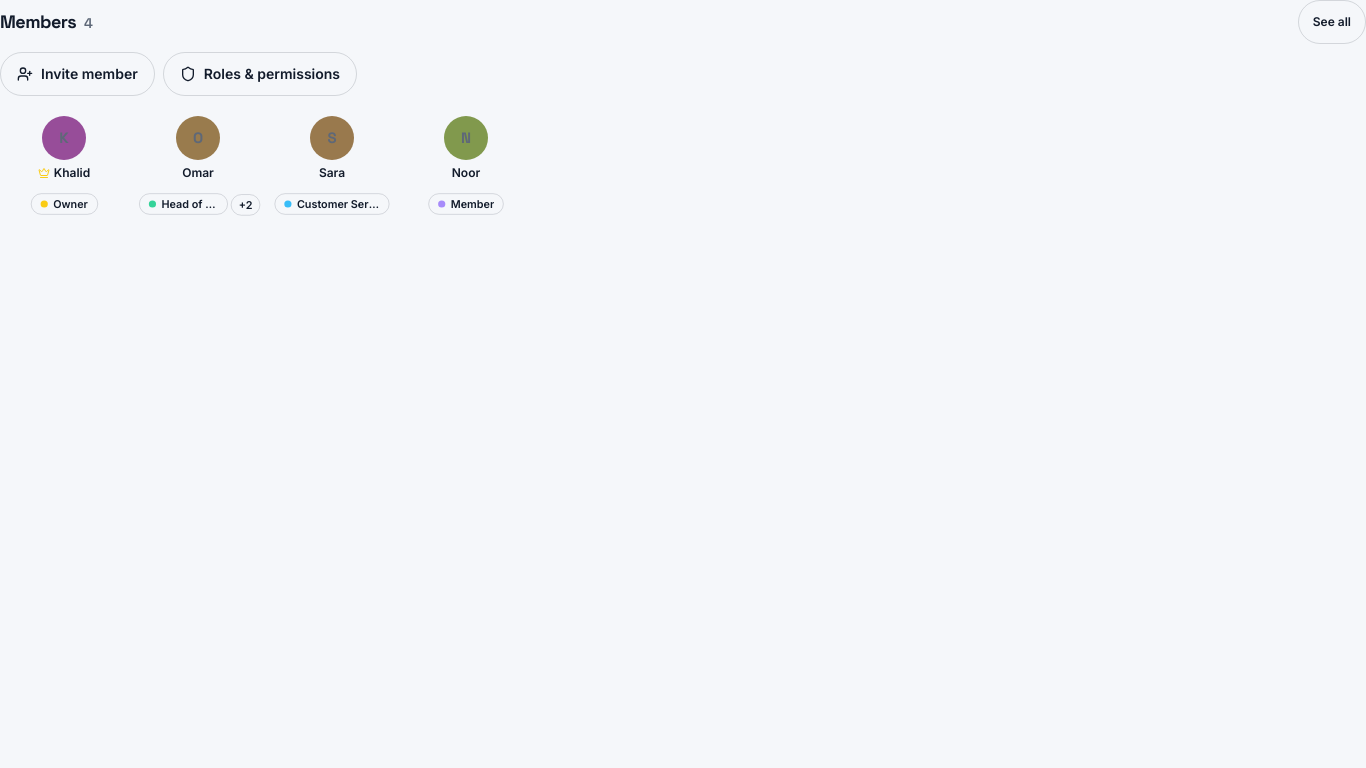
Test: Members row › gives no Member row to an owner who never joined
Click the button with aria-label "Khalid’s roles": (64, 204) [27,182,101,226]
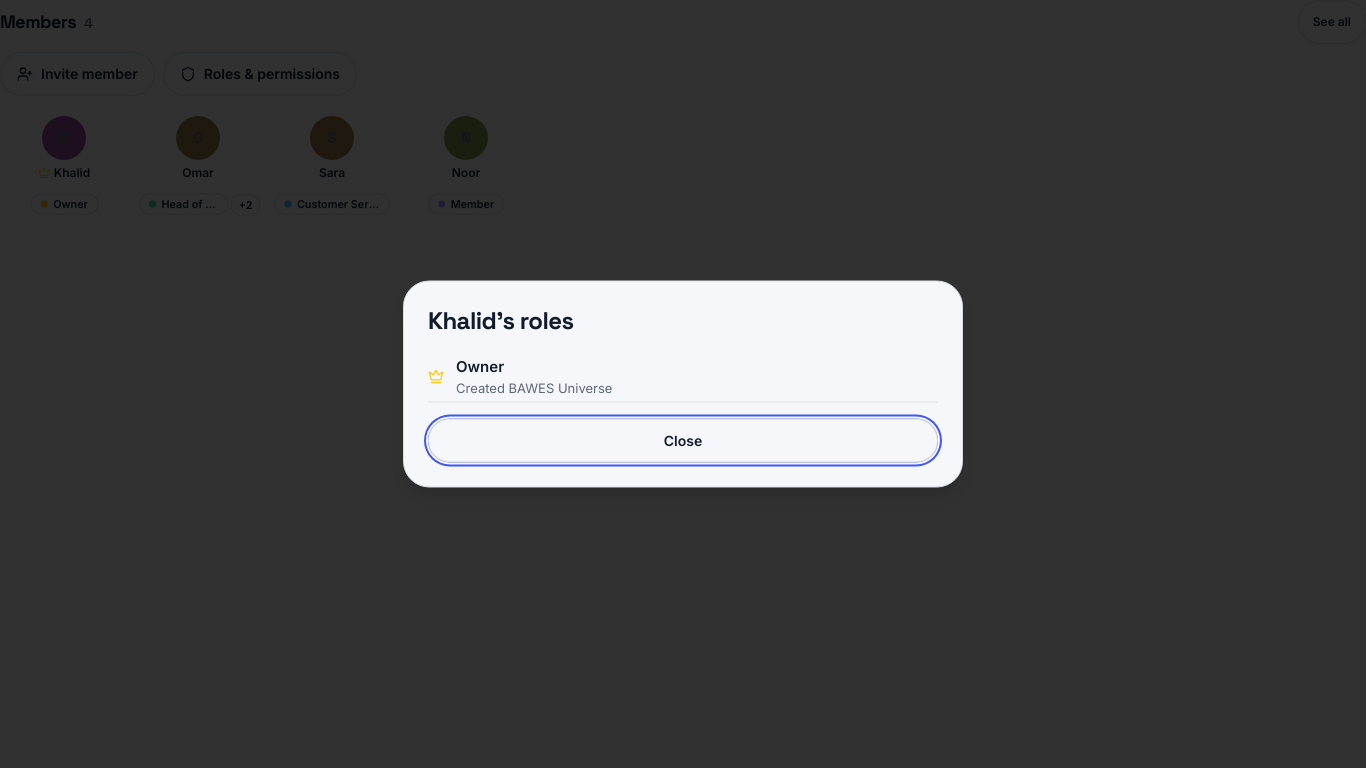
Now the list items read "OwnerCreated BAWES Universe", in this order, box [428,352,938,402]
